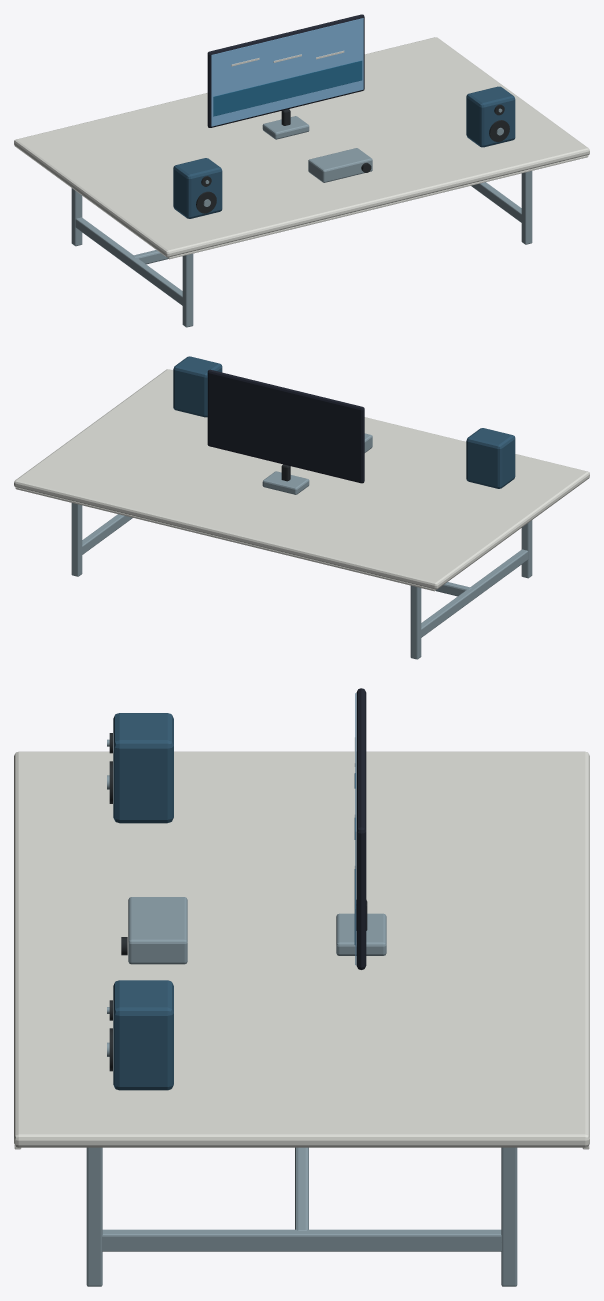
File: suvel_audio.glb
3 views of the same model, one above another, from view 1: azimuth 30°, elevation 25°; view 2: azimuth 150°, elevation 25°; view 3: azimuth 270°, elevation 25° (orthographic). The views are drawn at different scales.
Parts seen in each view (by area): view 1: suvel_audio; view 2: suvel_audio; view 3: suvel_audio.
Part boxes in pixels (bbox=[...]): suvel_audio: bbox=[14, 14, 589, 327]; suvel_audio: bbox=[14, 356, 589, 659]; suvel_audio: bbox=[14, 688, 589, 1286].
Bounding box in the file's own units: 4 × 1.8 × 2.52.
